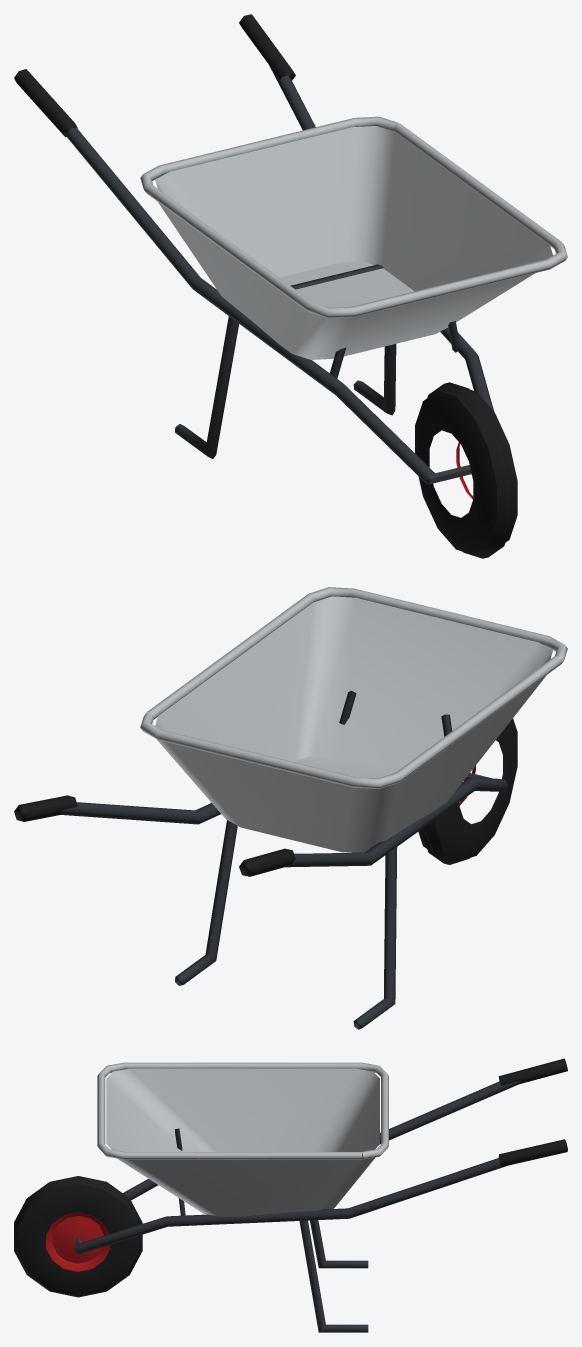
The model's file is wheelbarrow.glb.
3 views of the same model, one above another, from view 1: azimuth 30°, elevation 25°; view 2: azimuth 150°, elevation 25°; view 3: azimuth 270°, elevation 25° (orthographic). The views are drawn at different scales.
Visible parts, largest first — view 1: wheelbarrow; view 2: wheelbarrow; view 3: wheelbarrow.
Boxes of the visible parts, x1,y1,x2,y2 form: wheelbarrow: (14,14,567,558); wheelbarrow: (14,587,567,1029); wheelbarrow: (14,1058,567,1332).
Size of the model in its own units: 0.664 by 0.6697 by 1.68.
